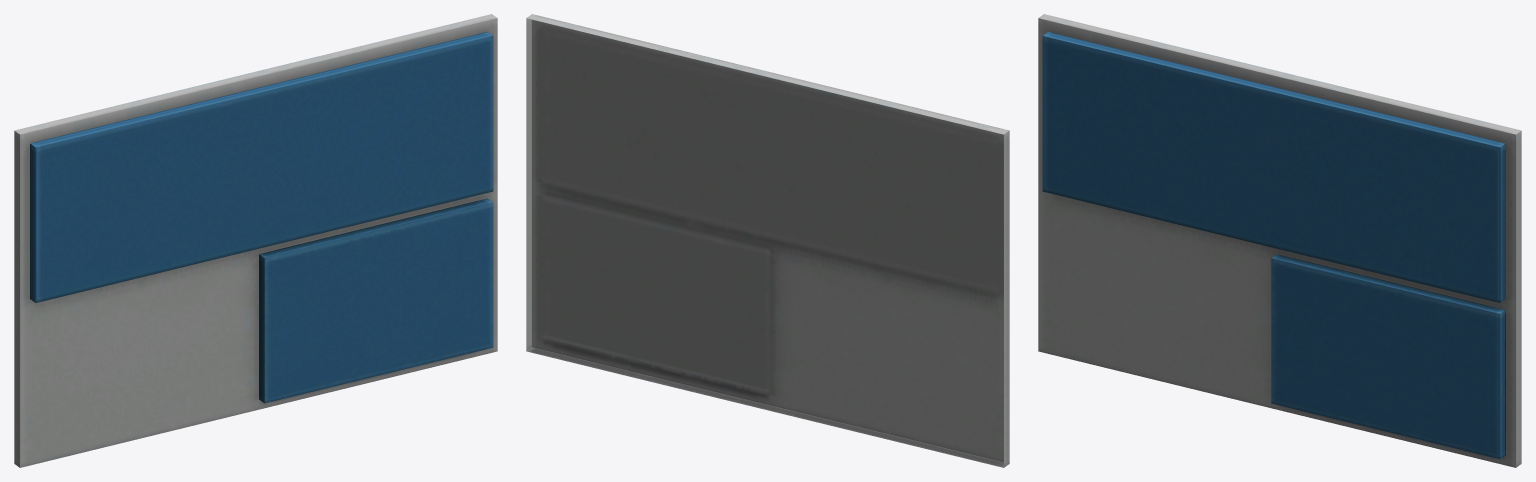
The model's file is door_sign_hospital.dae.
3 renders of one model, left to right at view 1: azimuth 30°, elevation 25°; view 2: azimuth 150°, elevation 25°; view 3: azimuth 330°, elevation 25°, orthographic.
Parts seen in each view (by area): view 1: low; view 2: low; view 3: low.
Part boxes in pixels (x1,y1,x2,y2): low: (14,14,497,467); low: (526,14,1009,467); low: (1038,14,1521,467).
Size of the model in its own units: 0.75 by 0.5 by 0.0312.
